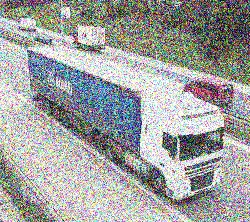truck: (28, 47, 224, 201), (183, 75, 234, 108), (71, 23, 106, 52)
